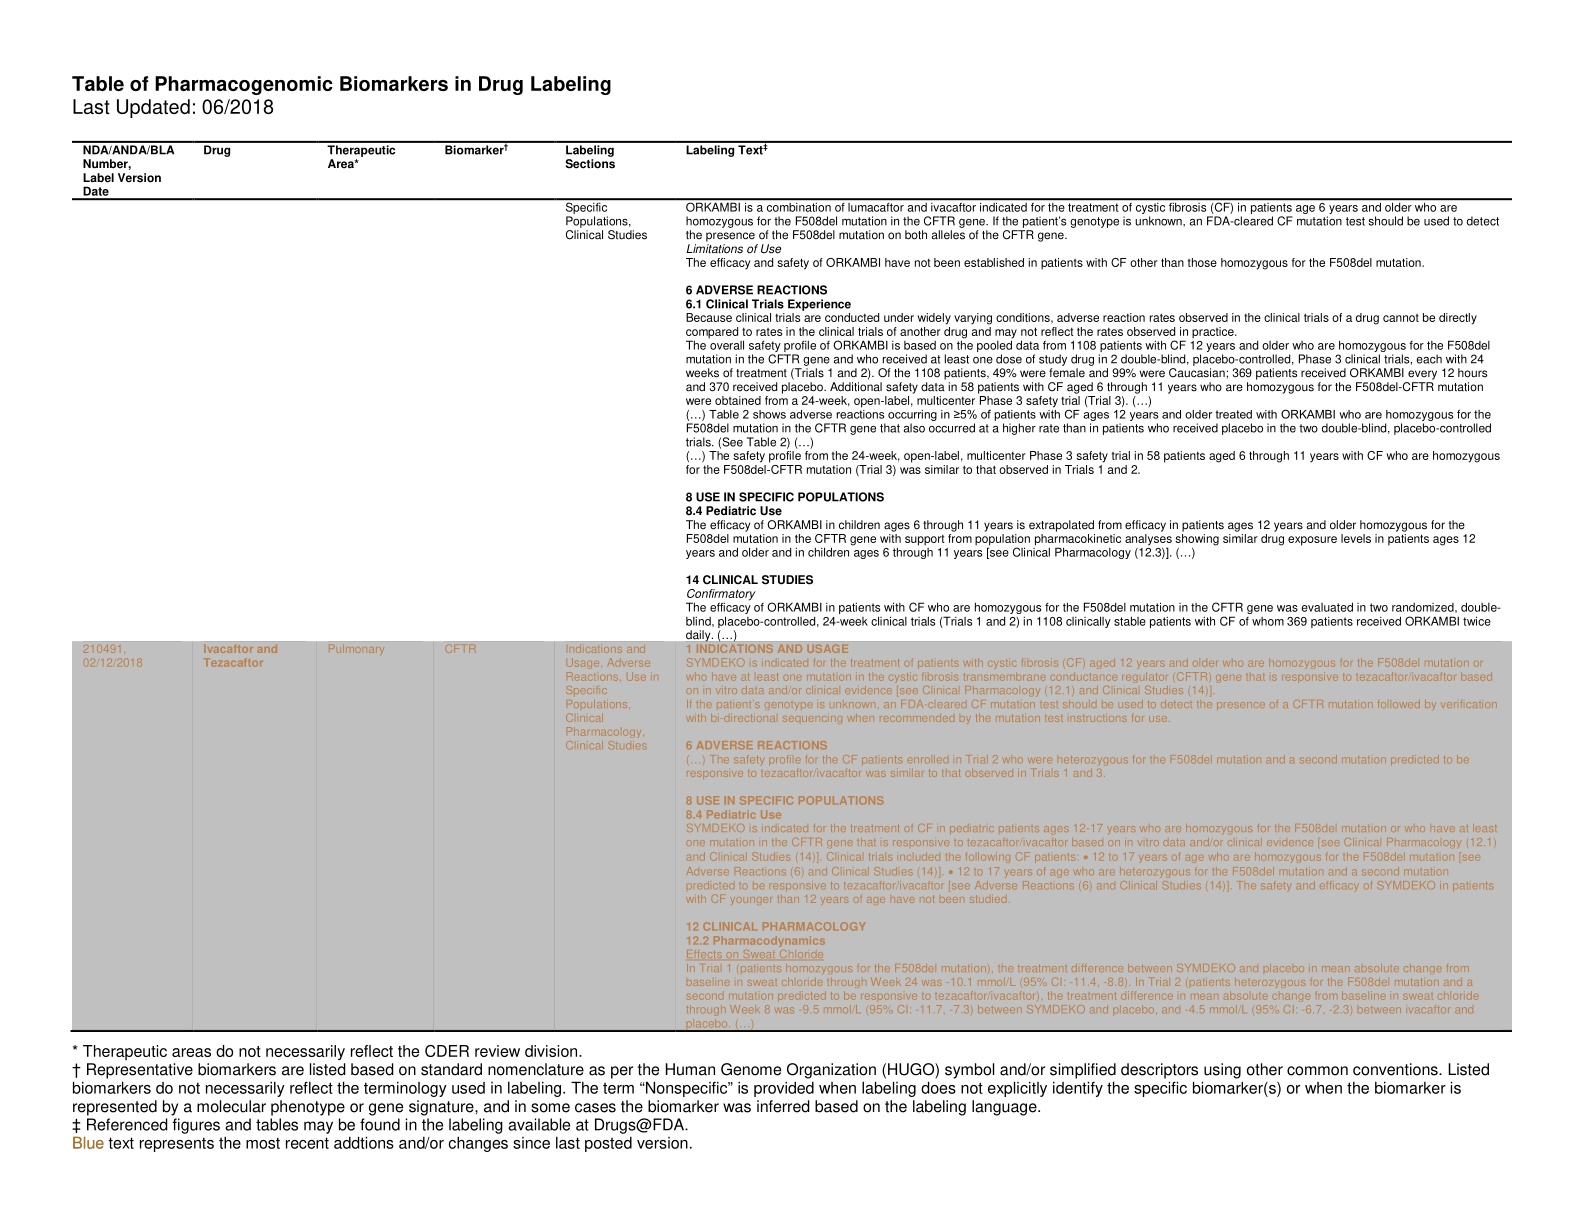partial_lined_merged_cells: (69, 139, 1513, 1032)
